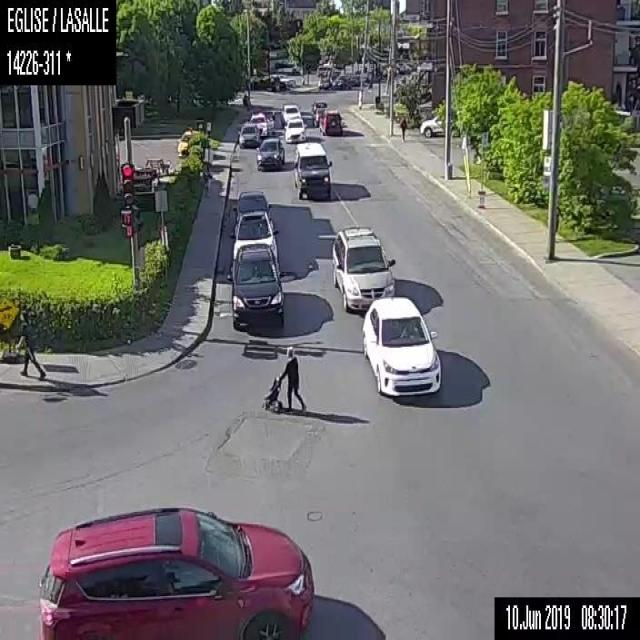pedestrian: (262, 345, 306, 414), (16, 308, 48, 377), (398, 113, 407, 140)
vehicle: (34, 504, 314, 639), (361, 297, 442, 399), (330, 220, 398, 312), (228, 240, 284, 330), (227, 209, 278, 262), (291, 139, 333, 199), (232, 187, 270, 215), (254, 137, 284, 168), (317, 109, 345, 137), (236, 120, 260, 147), (175, 127, 197, 155), (419, 114, 444, 137), (284, 116, 305, 143), (279, 102, 301, 124), (310, 98, 326, 125), (248, 112, 266, 136), (330, 74, 351, 91)
